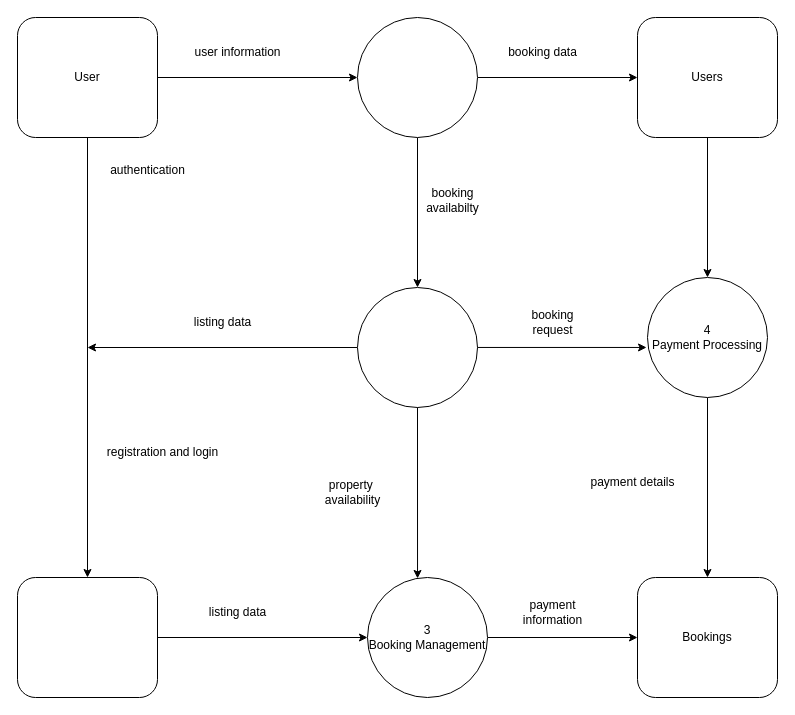
This 795x715 diagram has some shape labels left out. The shapes that lost their labels are listed below. From the top down, each one's centre as x and y in pixels, then its label:
pixel 417 77: 1 User Management
pixel 417 347: 2 Property Listings
pixel 87 637: Payment Gateway
